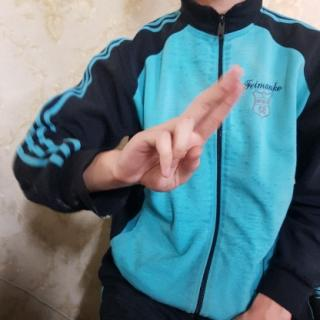TA: (108, 62, 251, 196)
